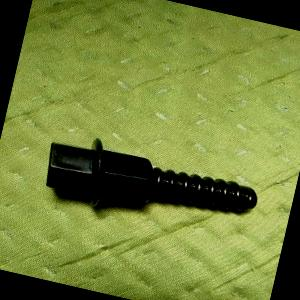parafuso: (37, 127, 262, 243)
